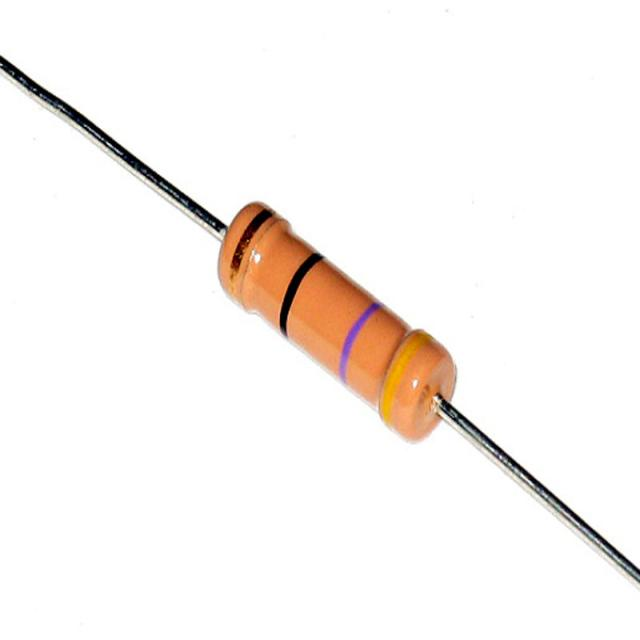Resistor: (217, 202, 454, 442)
